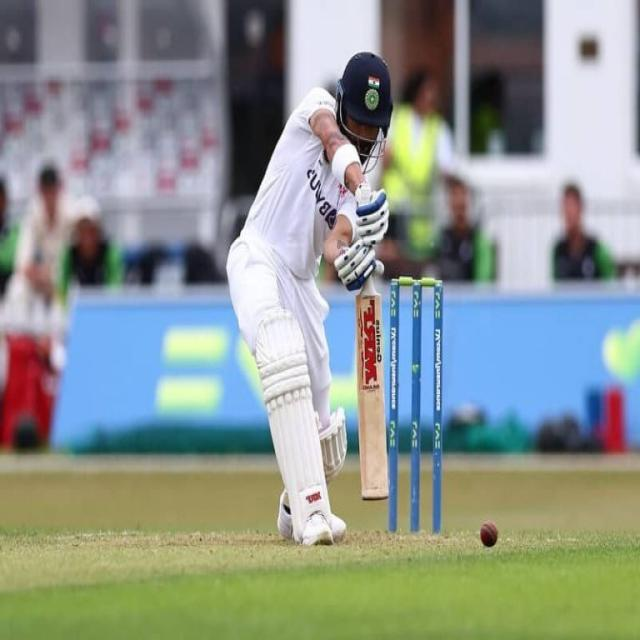ball: (477, 517, 499, 549)
stump: (387, 275, 443, 535)
